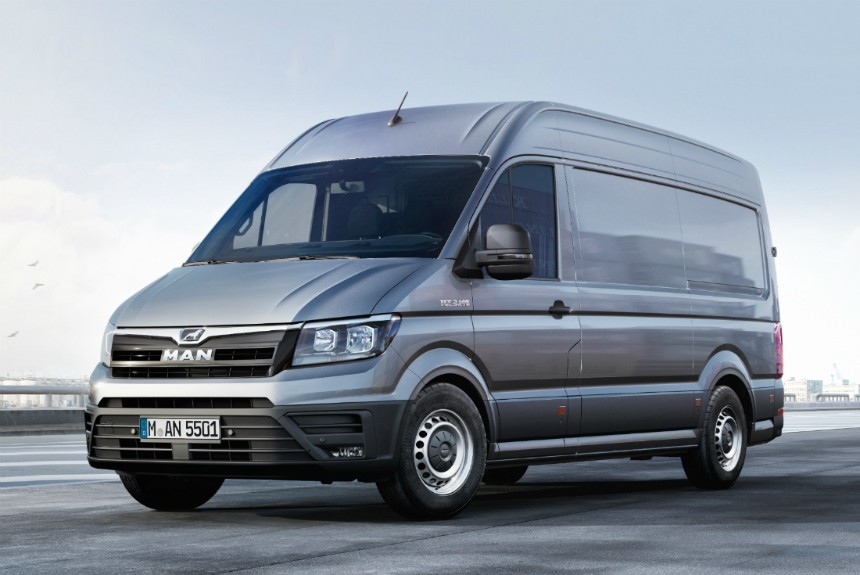van: (89, 103, 787, 522)
